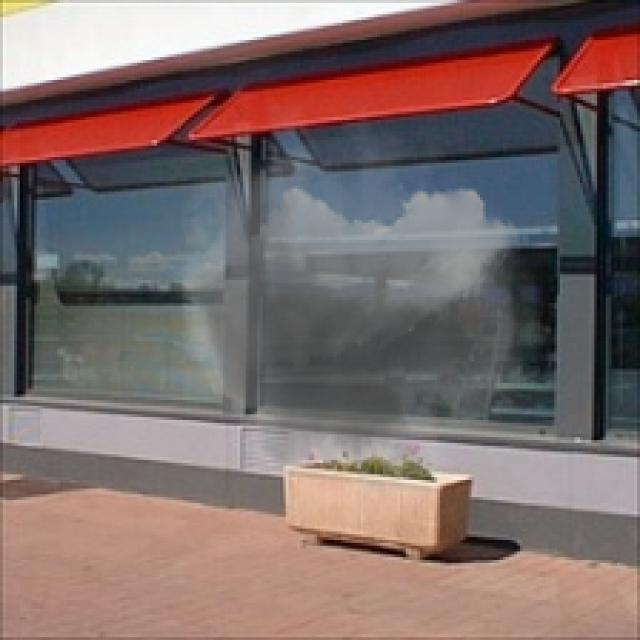Smoke: (160, 103, 543, 520)
